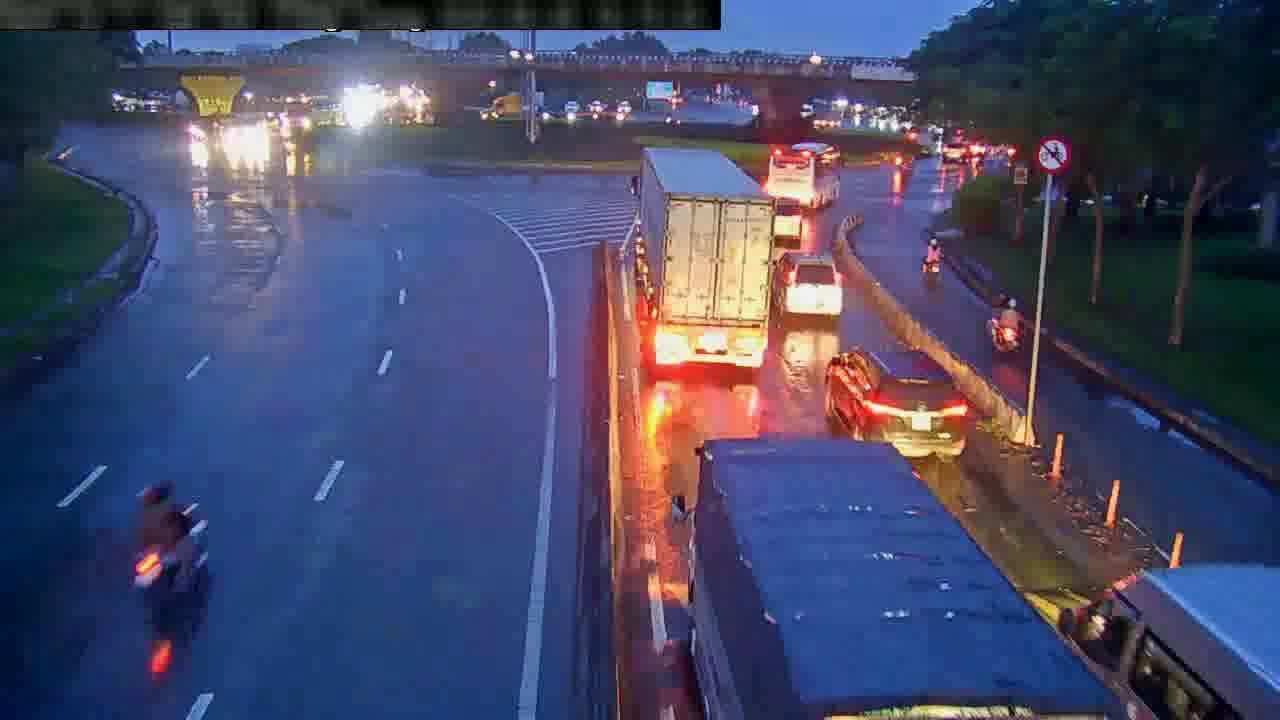14: (1055, 559, 1278, 720), (764, 139, 845, 210)
8: (671, 438, 1106, 720), (626, 148, 773, 382)
container: (825, 346, 966, 461), (772, 248, 846, 321)
motorbike: (136, 482, 215, 603), (978, 286, 1022, 356), (920, 238, 943, 284)
